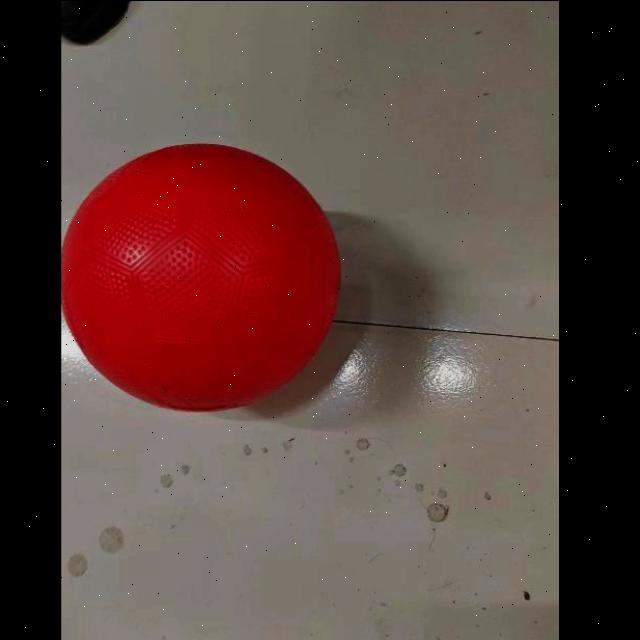R: (61, 137, 349, 419)
